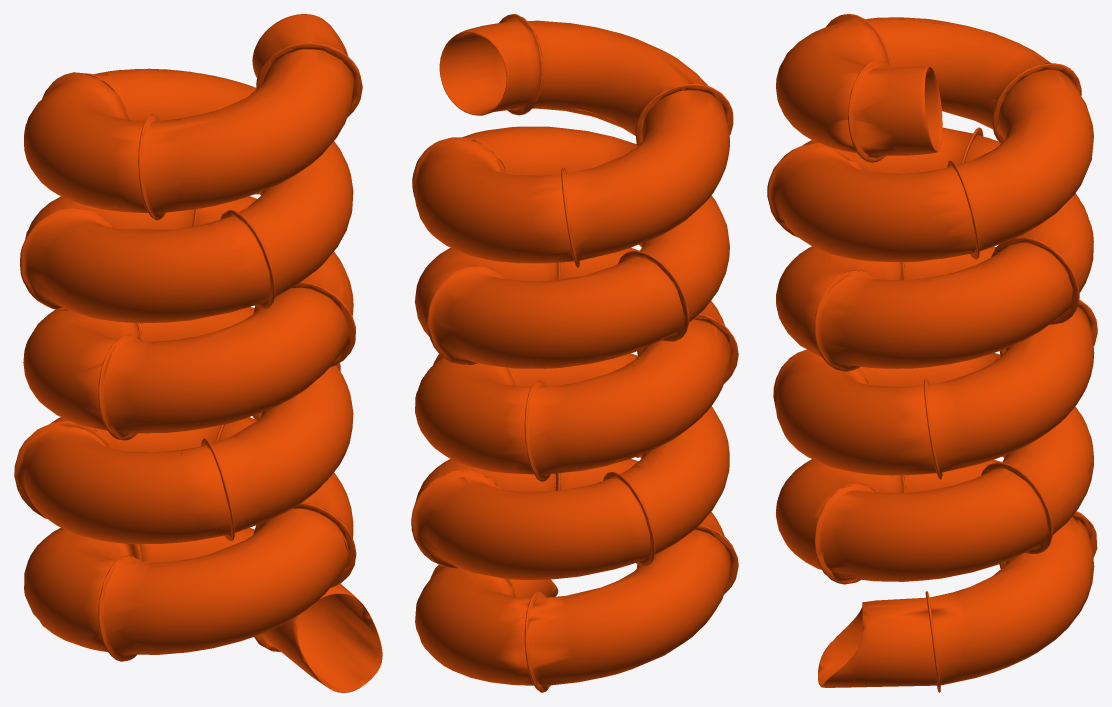
File: spiral.glb
3 renders of one model, left to right at view 1: azimuth 30°, elevation 25°; view 2: azimuth 150°, elevation 25°; view 3: azimuth 270°, elevation 25°, orthographic. The views are drawn at different scales.
Visible parts, largest first — view 1: Spiral.001; view 2: Spiral.001; view 3: Spiral.001.
Part boxes in pixels (box(x1,y1,x2,y2)): Spiral.001: box(14, 14, 382, 692); Spiral.001: box(411, 14, 738, 692); Spiral.001: box(767, 14, 1097, 692).
Size of the model in its own units: 6.96 by 14.39 by 6.98.
